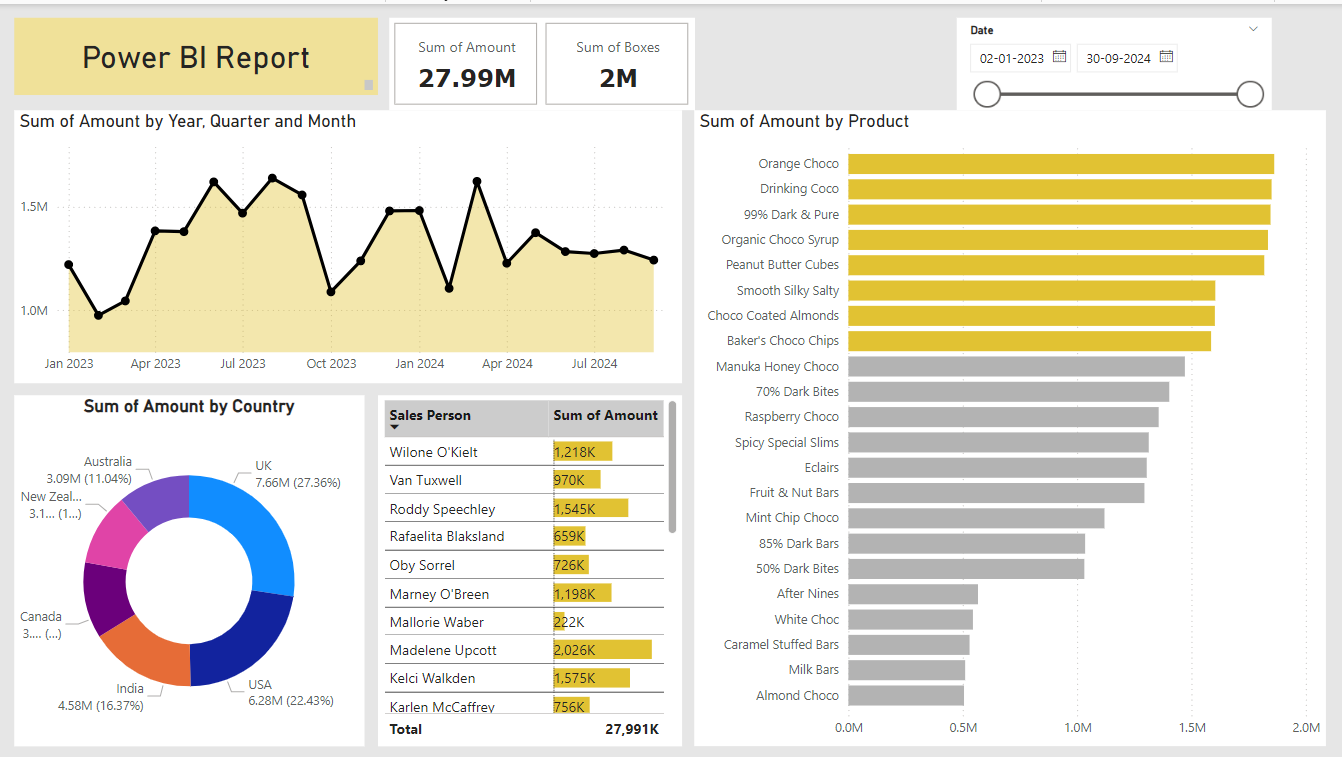

What the dashboard file says about the page in this screenshot:
{"tool":"powerbi","page":{"name":"Page 2","canvas":[1280,720],"ordinal":1},"visuals":[{"type":"lineChart","fields":{"Category":["data.Date.Variation.Date Hierarchy.Year","data.Date.Variation.Date Hierarchy.Quarter","data.Date.Variation.Date Hierarchy.Month","data.Date.Variation.Date Hierarchy.Day"],"Y":["data.Amount"]},"box":[15.9,101,636.3,259.7],"z":0},{"type":"donutChart","fields":{"Category":["data.Country"],"Y":["data.Amount"]},"box":[15.9,372.2,333.3,334.7],"z":1},{"type":"tableEx","fields":{"Values":["data.Sales Person","data.Amount"]},"box":[362.1,372.2,290,334.7],"z":2},{"type":"clusteredBarChart","fields":{"Category":["data.Product"],"Y":["data.Amount"]},"box":[663.7,101,601.6,606],"z":3},{"type":"cardVisual","fields":{"Data":["data.Amount","data.Boxes"]},"box":[372.2,13,291.4,88],"z":4},{"type":"slicer","fields":{"Values":["data.Date"]},"box":[913.3,13,300.1,88],"z":5},{"type":"textbox","title":"Power BI Report\n\n","box":[15.9,13,346.3,73.6],"z":6}]}

Visuals, with their boxes in screenshot pixels (x1, y1, x2, y2), scaled from the page's 1280x720 canvas onto the 1342x757 screenshot:
lineChart - data.Date.Variation.Date Hierarchy.Year x data.Date.Variation.Date Hierarchy.Quarter: bbox(17, 106, 684, 379)
donutChart - data.Country x data.Amount: bbox(17, 391, 366, 743)
tableEx - data.Sales Person x data.Amount: bbox(380, 391, 684, 743)
clusteredBarChart - data.Product x data.Amount: bbox(696, 106, 1327, 743)
cardVisual - data.Amount x data.Boxes: bbox(390, 14, 696, 106)
slicer - data.Date: bbox(958, 14, 1272, 106)
"Power BI Report

" textbox: bbox(17, 14, 380, 91)
